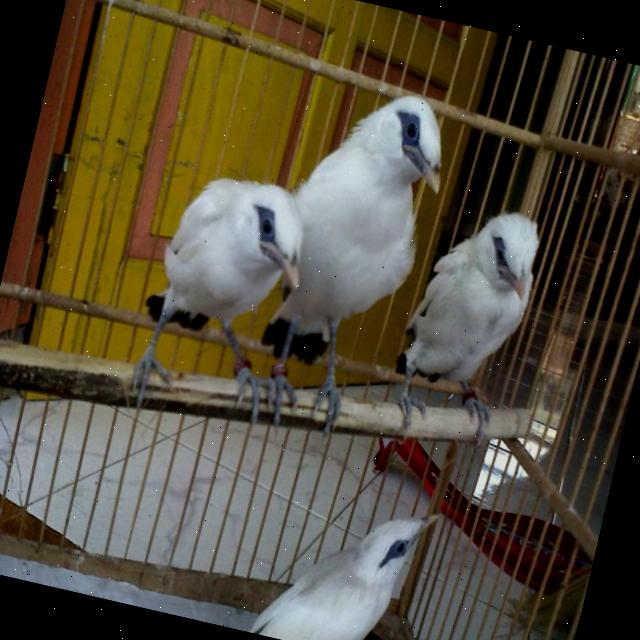Jalak Bali: (234, 68, 473, 454), (102, 144, 324, 448), (374, 182, 572, 472), (233, 466, 452, 640)
